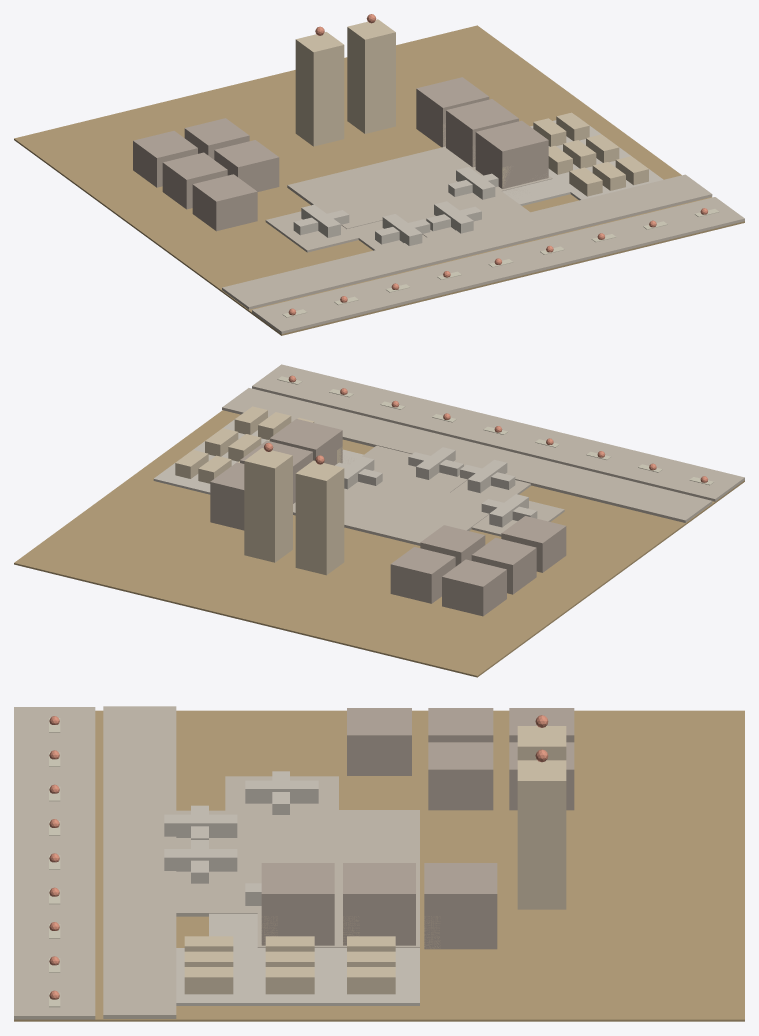
Rendered from stage_23.glb.
The picture shows the model from 3 angles, top to bottom: view 1: azimuth 30°, elevation 25°; view 2: azimuth 150°, elevation 25°; view 3: azimuth 270°, elevation 25°; orthographic projection. The views are drawn at different scales.
Visible parts, largest first — view 1: geometry_0; view 2: geometry_0; view 3: geometry_0.
Boxes of the visible parts, <box> form: geometry_0: <box>14,14,744,335</box>; geometry_0: <box>14,364,744,677</box>; geometry_0: <box>14,706,744,1021</box>.
Size of the model in its own units: 9 by 2.06 by 9.
